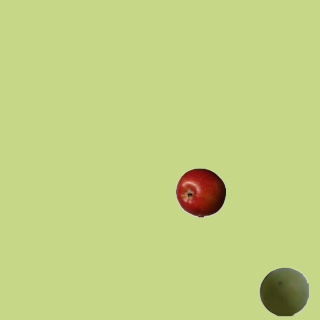Apple Braeburn: (175, 167, 225, 217)
Grape White 4: (258, 266, 308, 316)
